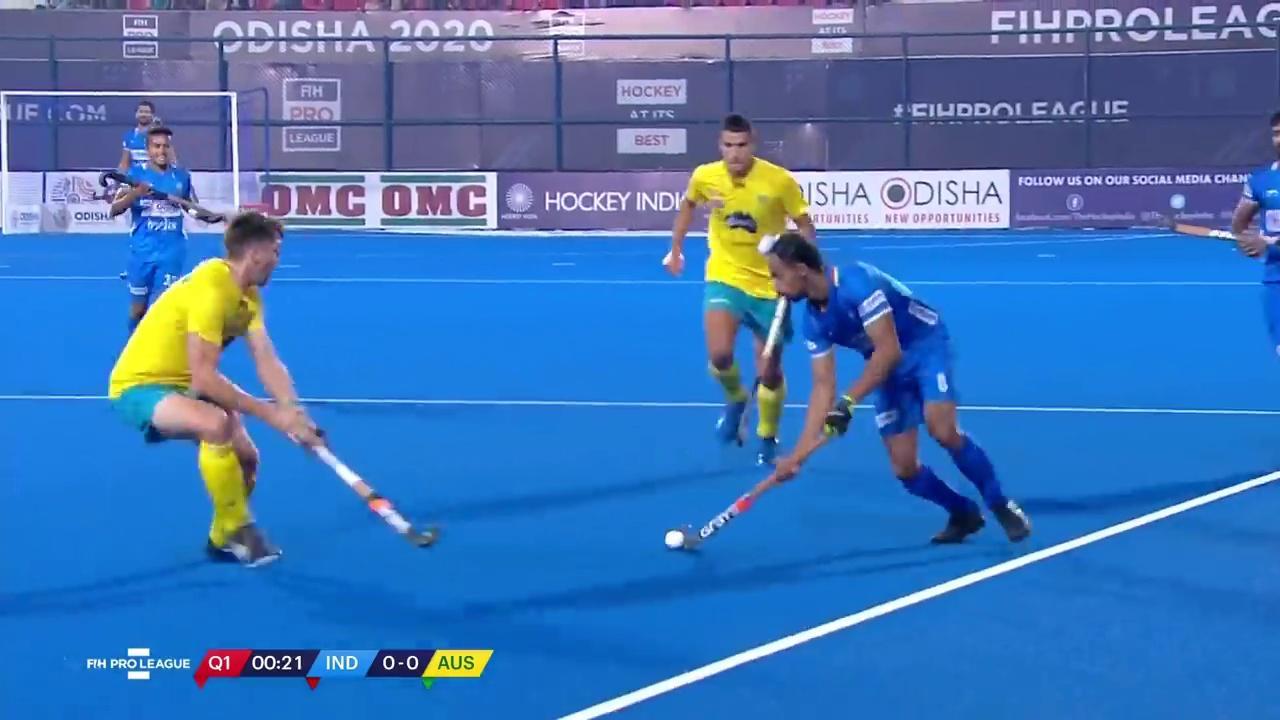ball: (645, 503, 717, 568)
